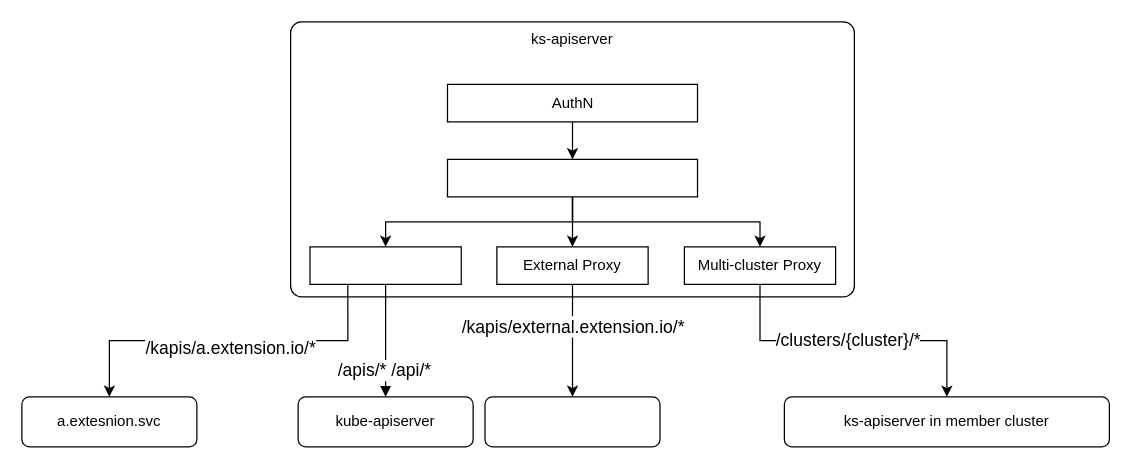
Some shapes in this 1131 by 469 pixel diagram are drawn without their labels. The shapes that lost their labels are listed below. From the top down, each one's centre as x and y in pixels, then its label:
the point at 572,177: AuthZ
the point at 385,265: In-Cluster Proxy
the point at 572,421: external.service.com
